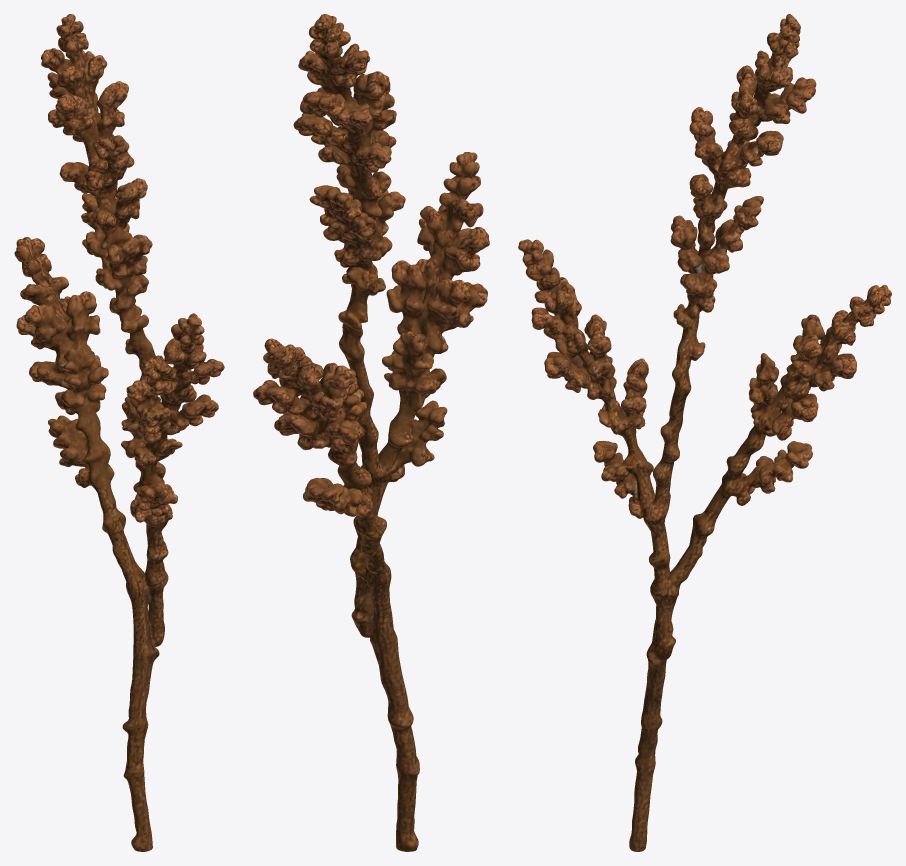
Rendered from DriedTwig.glb.
The picture shows the model from 3 angles, left to right: view 1: azimuth 30°, elevation 25°; view 2: azimuth 150°, elevation 25°; view 3: azimuth 270°, elevation 25°; orthographic projection. The views are drawn at different scales.
Parts seen in each view (by area): view 1: tripo_node_1b645931-0f37-4451-9909-cb1b18b01983; view 2: tripo_node_1b645931-0f37-4451-9909-cb1b18b01983; view 3: tripo_node_1b645931-0f37-4451-9909-cb1b18b01983.
Part boxes in pixels (x1,y1,x2,y2): tripo_node_1b645931-0f37-4451-9909-cb1b18b01983: [14, 14, 224, 851]; tripo_node_1b645931-0f37-4451-9909-cb1b18b01983: [253, 14, 489, 851]; tripo_node_1b645931-0f37-4451-9909-cb1b18b01983: [518, 14, 891, 851].
Bounding box in the file's own units: 0.0983 × 1 × 0.4077.
1 material, 1 textured.
